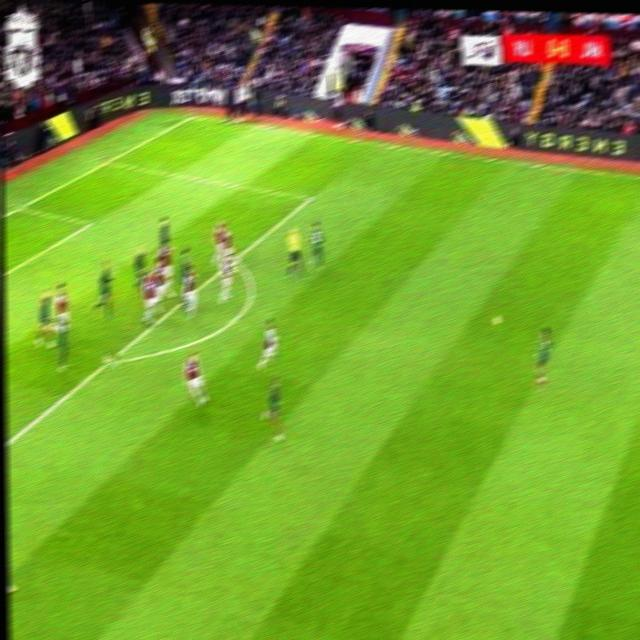bigarea_top_inner: (303, 190, 315, 204)
bigarea_top_outter: (100, 156, 112, 168)
bottom_arc_area_intersection: (103, 350, 118, 370)
corner: (187, 111, 200, 119)
smallarea_top_inner: (86, 215, 97, 229)
smallarea_top_outter: (15, 202, 26, 213)
top_arc_area_intersection: (230, 255, 240, 267)
